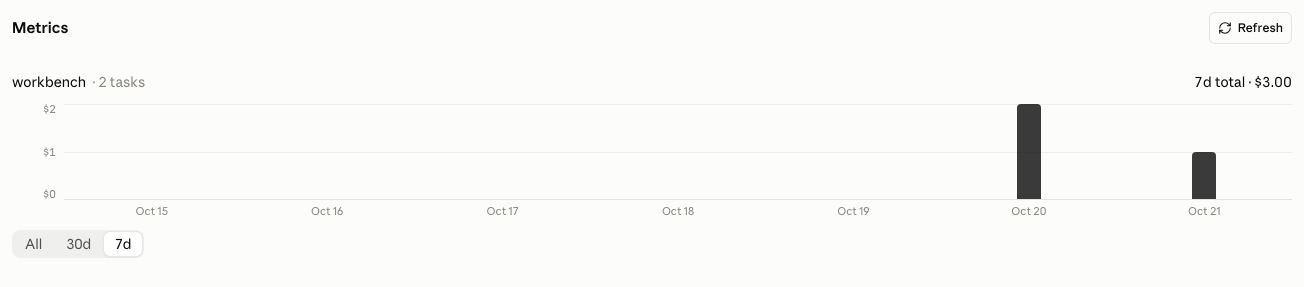
Test: ProjectMetricsSection › reads out what the selected range cost, and says which range that is
Expected: the text "workbench" is shown, [12,72,86,92]
Expected: the text "workbench" shows "7d total · $3.00", [1194,73,1292,91]
Step 1. Click the radio button labelled "30d" → point(79, 244), box [54,231,103,257]
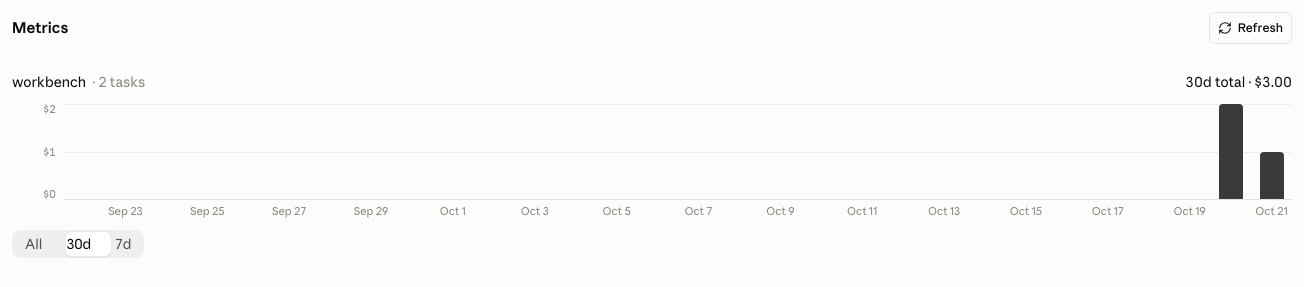
Result: the text "workbench" shows "30d total · $3.00" at [1185,73,1292,91]
# Everything the project ever spent, which reaches back past the last 30 days
Step 2. Click the radio button labelled "All" → point(34, 244), box [13,231,54,257]
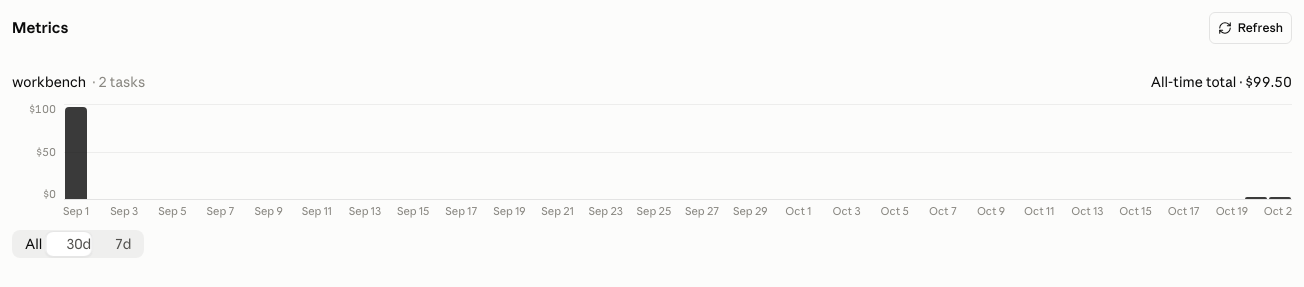
Result: the text "workbench" shows "All-time total · $99.50" at [1151,73,1292,91]
